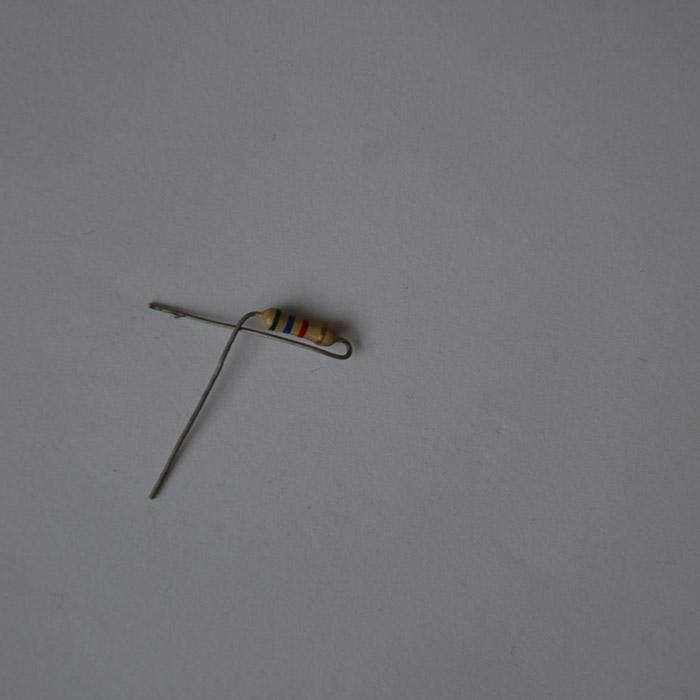resistor: (254, 307, 336, 345)
